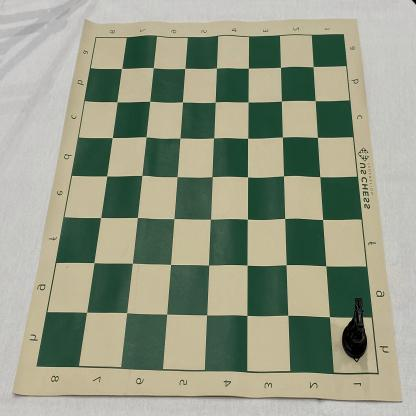black-knight: (342, 298, 368, 360)
